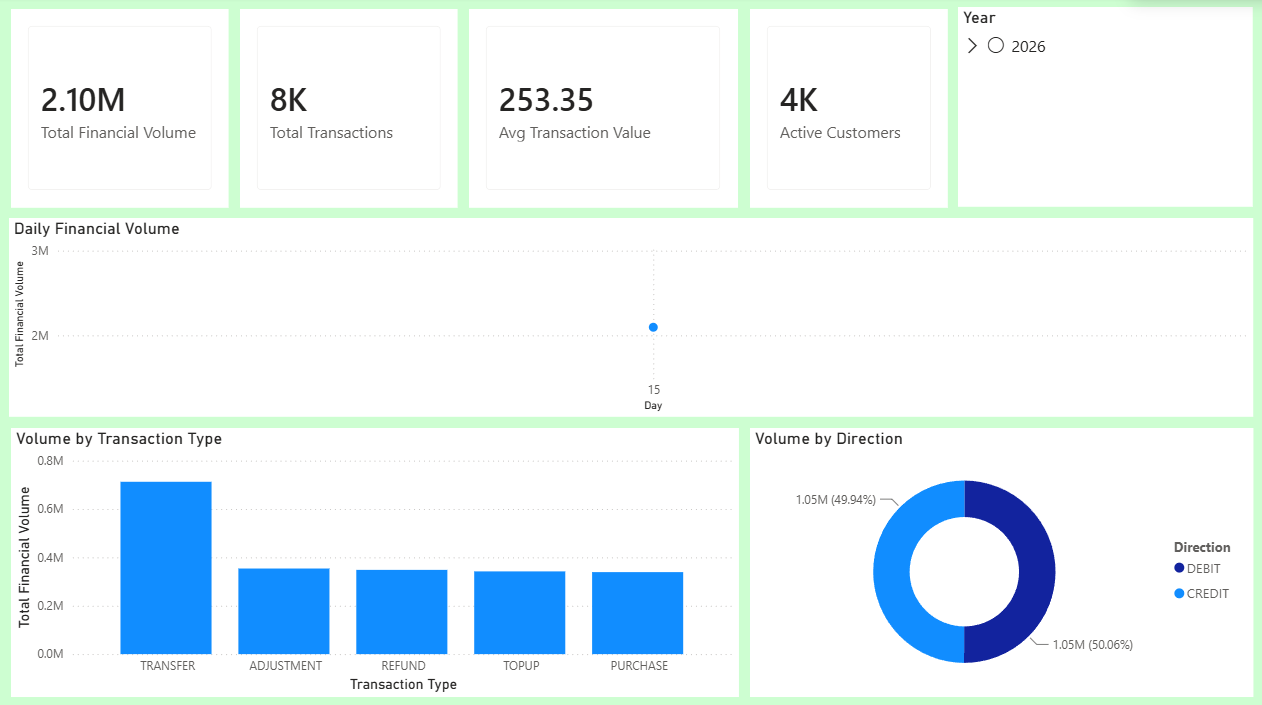

The dashboard page shown, as its layout file describes it:
{"tool":"powerbi","page":{"name":"Page 1","canvas":[1280,720],"ordinal":0},"visuals":[{"type":"cardVisual","fields":{"Data":["Sum(public_gold gold_daily_financial_summary.total_financial_volume)"]},"box":[11.7,11.7,220,200.5],"z":0},{"type":"cardVisual","fields":{"Data":["Sum(public_gold gold_daily_financial_summary.total_transactions)"]},"box":[243.6,11.7,220.3,200.5],"z":1000},{"type":"cardVisual","fields":{"Data":["Avg(public_gold gold_daily_financial_summary.avg_transaction_value)"]},"box":[475.6,11.7,271.6,200.5],"z":2000},{"type":"cardVisual","fields":{"Data":["Sum(public_gold gold_daily_financial_summary.unique_active_customers)"]},"box":[758.9,11.7,200,200.5],"z":3000},{"type":"lineChart","title":"Daily Financial Volume","fields":{"Category":["public_gold gold_daily_financial_summary.report_date.Variation.Date Hierarchy.Day"],"Y":["Sum(public_gold gold_daily_financial_summary.total_financial_volume)"]},"box":[10.5,223.8,1257.9,200.5],"z":4000},{"type":"clusteredColumnChart","title":"Volume by Transaction Type","fields":{"Category":["public_gold gold_daily_financial_summary.transaction_type"],"Y":["Sum(public_gold gold_daily_financial_summary.total_financial_volume)"]},"box":[11.7,436,735.6,271.6],"z":5000},{"type":"donutChart","title":"Volume by Direction","fields":{"Category":["public_gold gold_daily_financial_summary.direction"],"Y":["Sum(public_gold gold_daily_financial_summary.total_financial_volume)"]},"box":[758.9,436,509.4,271.6],"z":6000},{"type":"listSlicer","fields":{"Values":["public_gold gold_daily_financial_summary.report_date.Variation.Date Hierarchy.Year","public_gold gold_daily_financial_summary.report_date.Variation.Date Hierarchy.Quarter","public_gold gold_daily_financial_summary.report_date.Variation.Date Hierarchy.Month","public_gold gold_daily_financial_summary.report_date.Variation.Date Hierarchy.Day"]},"box":[969.9,10.5,298.4,201.7],"z":7000}]}

Visuals, with their boxes in screenshot pixels (x1, y1, x2, y2), scaled from the page's 1280x720 canvas onto the 1262x705 screenshot:
cardVisual - Sum(public_gold gold_daily_financial_summary.total_financial_volume): 12, 11, 228, 208
cardVisual - Sum(public_gold gold_daily_financial_summary.total_transactions): 240, 11, 457, 208
cardVisual - Avg(public_gold gold_daily_financial_summary.avg_transaction_value): 469, 11, 737, 208
cardVisual - Sum(public_gold gold_daily_financial_summary.unique_active_customers): 748, 11, 945, 208
"Daily Financial Volume" lineChart: 10, 219, 1251, 415
"Volume by Transaction Type" clusteredColumnChart: 12, 427, 737, 693
"Volume by Direction" donutChart: 748, 427, 1250, 693
listSlicer - public_gold gold_daily_financial_summary.report_date.Variation.Date Hierarchy.Year x public_gold gold_daily_financial_summary.report_date.Variation.Date Hierarchy.Quarter: 956, 10, 1250, 208
